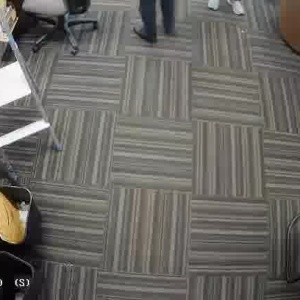person: (132, 0, 180, 46)
